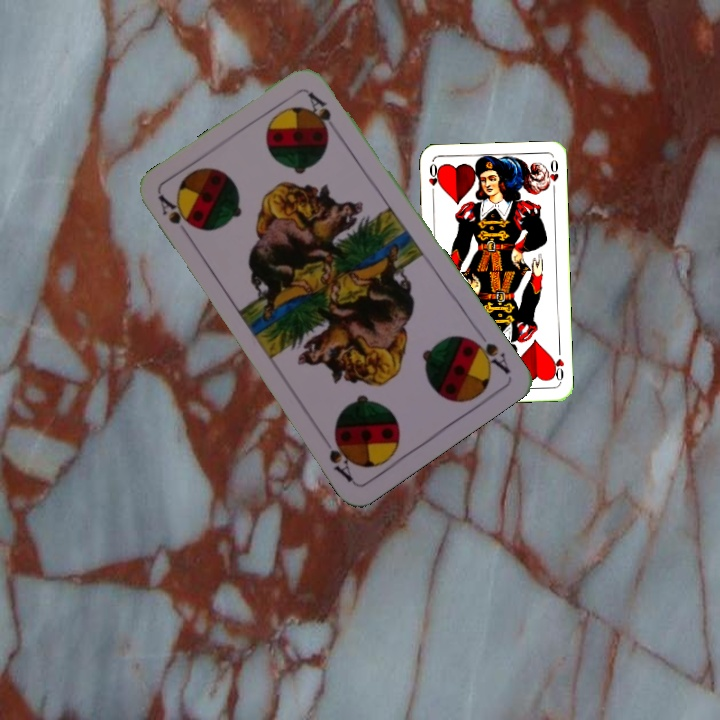HO: (548, 344, 567, 385), (425, 159, 442, 200)
SA: (463, 332, 513, 377), (154, 191, 195, 244)
